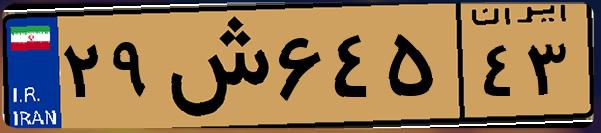2: (57, 26, 110, 100)
3: (525, 38, 570, 115)
4: (330, 28, 385, 110), (475, 38, 525, 113)
5: (385, 28, 445, 110)
6: (270, 28, 330, 110)
9: (110, 28, 158, 98)
ش: (158, 12, 270, 120)
